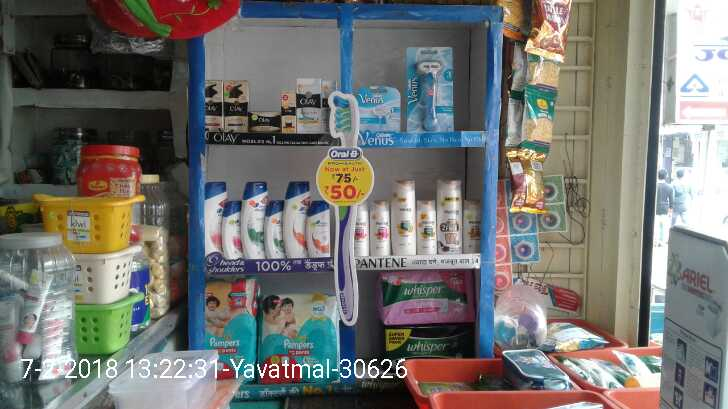venus: (407, 47, 454, 130), (358, 89, 403, 132)
